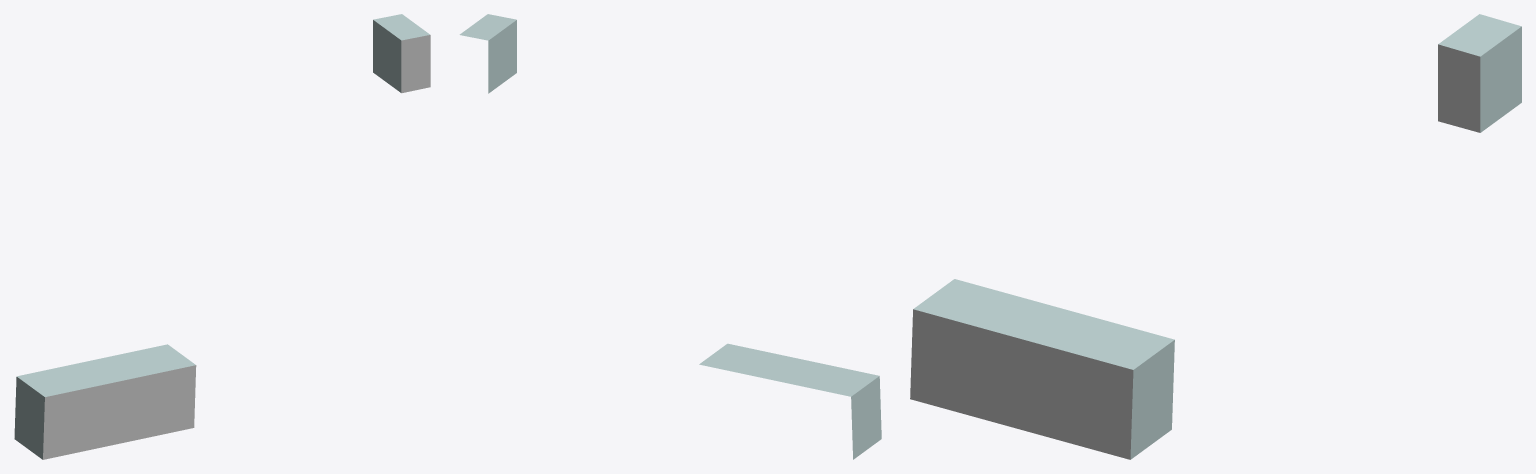
3 renders of one model, left to right at view 1: azimuth 30°, elevation 25°; view 2: azimuth 150°, elevation 25°; view 3: azimuth 330°, elevation 25°, orthographic. The views are drawn at different scales.
Parts seen in each view (by area): view 1: 0_2_2_3_3_3_0_3_1; view 2: 0_2_2_3_3_3_0_3_1; view 3: 0_2_2_3_3_3_0_3_1.
Part boxes in pixels (x1,y1,x2,y2): 0_2_2_3_3_3_0_3_1: [14, 14, 430, 459]; 0_2_2_3_3_3_0_3_1: [459, 14, 881, 459]; 0_2_2_3_3_3_0_3_1: [910, 14, 1521, 459].
Size of the model in its own units: 23.7 by 19.47 by 3.2.
